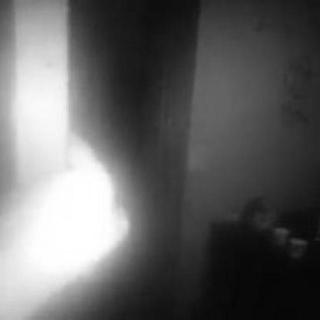other: (19, 171, 106, 279)
